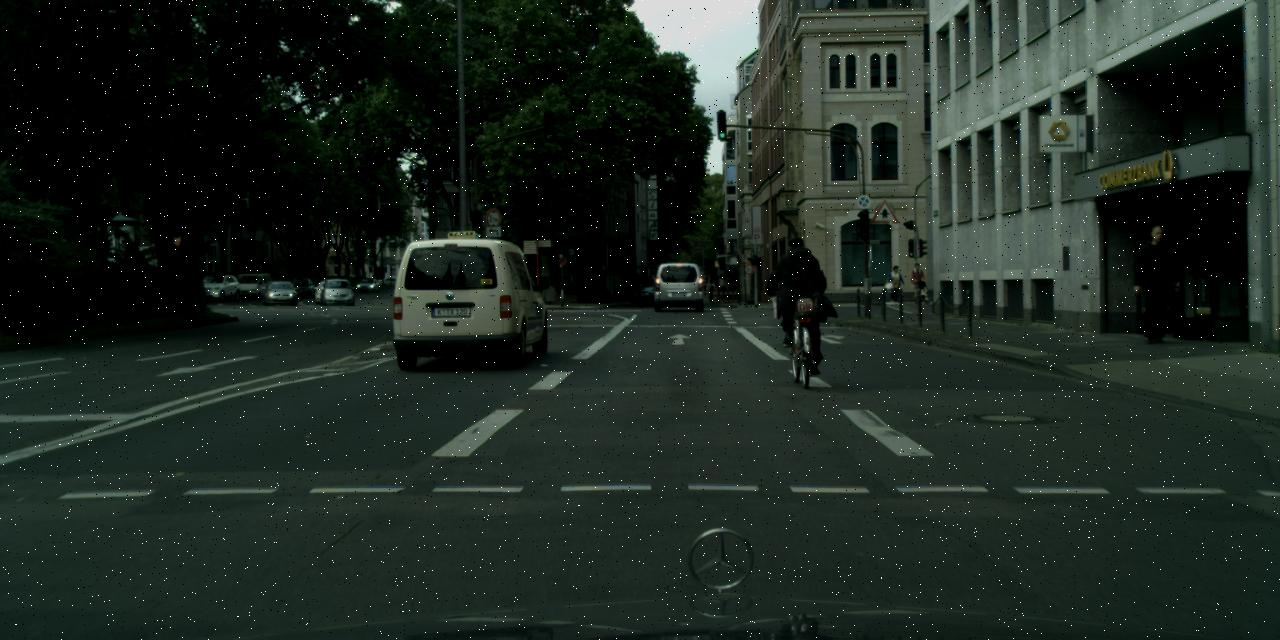ped: (775, 236, 825, 358), (1132, 225, 1180, 342), (909, 263, 925, 302), (887, 265, 902, 303)
